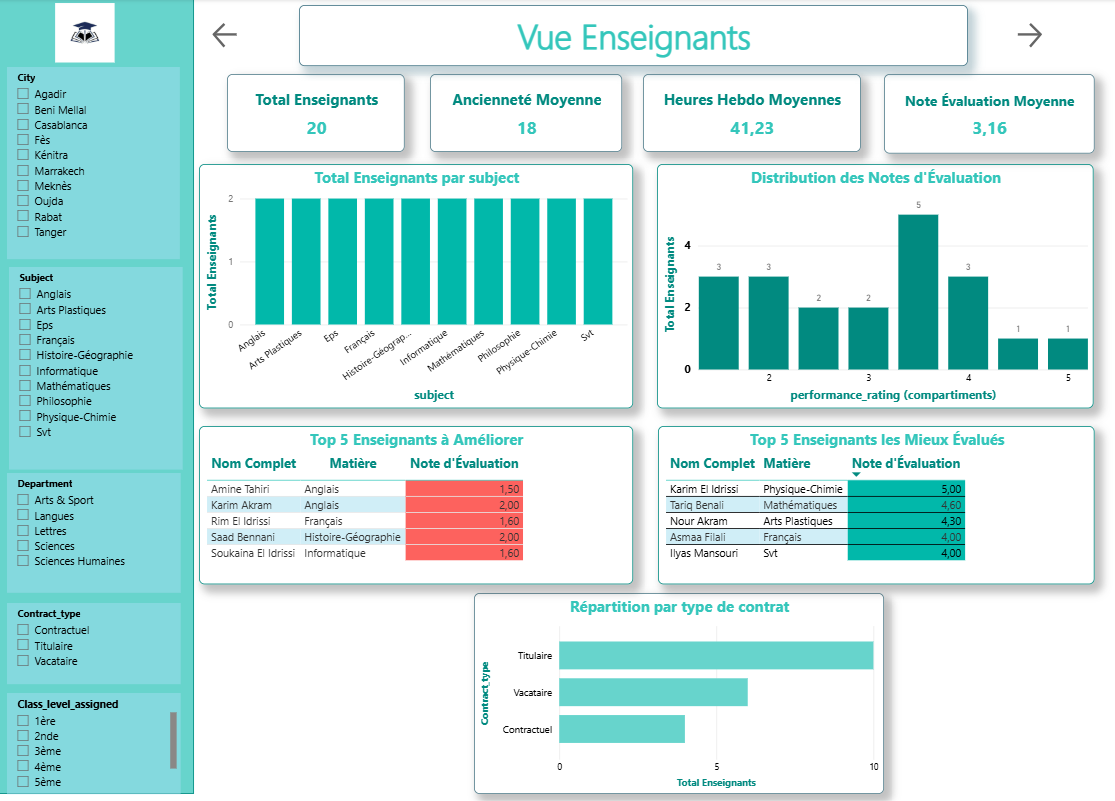

What the dashboard file says about the page in this screenshot:
{"tool":"powerbi","page":{"name":"Vue Enseignants","canvas":[1400,1000],"ordinal":1},"visuals":[{"type":"shape","box":[10.5,0,243.8,988.7],"z":0},{"type":"textbox","box":[384.4,7.5,831.6,76.3],"z":1000},{"type":"cardVisual","fields":{"Data":["teachers.Total Enseignants"]},"box":[294.7,92.7,221.4,97.2],"z":2000},{"type":"cardVisual","fields":{"Data":["teachers.Ancienneté Moyenne"]},"box":[547.4,92.7,239.3,97.2],"z":3000},{"type":"cardVisual","fields":{"Data":["courses.Heures Hebdo Moyennes"]},"box":[812.2,92.7,270.7,97.2],"z":4000},{"type":"cardVisual","fields":{"Data":["teachers.Note Évaluation Moyenne"]},"box":[1111.3,92.7,261.8,98.7],"z":5000},{"type":"slicer","fields":{"Values":["teachers.city"]},"box":[20.9,85,215.3,238.6],"z":6000},{"type":"slicer","fields":{"Values":["teachers.contract_type"]},"box":[20.7,751.8,216.1,100.9],"z":7000},{"type":"slicer","fields":{"Values":["teachers.department"]},"box":[20.7,590,216.1,148.8],"z":8000},{"type":"slicer","fields":{"Values":["teachers.subject"]},"box":[23.3,333.8,216.1,252.3],"z":9000},{"type":"image","box":[0,0,236.4,83.6],"z":10000},{"type":"barChart","title":"Répartition par type de contrat","fields":{"Category":["teachers.contract_type"],"Y":["teachers.Total Enseignants"]},"box":[601.7,738.8,509.8,249.7],"z":11000},{"type":"actionButton","box":[1272.9,25.4,100.2,40.4],"z":12000},{"type":"actionButton","box":[272.2,25.4,100.2,40.4],"z":13000},{"type":"clusteredColumnChart","fields":{"Category":["teachers.subject"],"Y":["teachers.Total Enseignants"]},"box":[260.3,204.9,540,303.6],"z":14000},{"type":"columnChart","title":"Distribution des Notes d''Évaluation","fields":{"Category":["teachers.performance_rating (compartiments)"],"Y":["teachers.Total Enseignants"]},"box":[830.1,204.9,542.9,303.6],"z":15000},{"type":"tableEx","title":"Top 5 Enseignants les Mieux Évalués","fields":{"Values":["teachers.full_name","teachers.subject","Avg(teachers.performance_rating)"]},"box":[830.7,530.5,543.4,196.7],"z":16000},{"type":"tableEx","title":"Top 5 Enseignants à Améliorer","fields":{"Values":["teachers.full_name","teachers.subject","Avg(teachers.performance_rating)"]},"box":[260.1,530.5,539.6,196.7],"z":17000},{"type":"slicer","fields":{"Values":["teachers.class_level_assigned"]},"box":[20.7,863,216.1,125.5],"z":18000}]}

Visuals, with their boxes in screenshot pixels (x1, y1, x2, y2), scaled from the page's 1400x1000 canvas onto the 1115x801 screenshot:
shape: 8, 0, 203, 792
textbox: 306, 6, 968, 67
cardVisual - teachers.Total Enseignants: 235, 74, 411, 152
cardVisual - teachers.Ancienneté Moyenne: 436, 74, 627, 152
cardVisual - courses.Heures Hebdo Moyennes: 647, 74, 862, 152
cardVisual - teachers.Note Évaluation Moyenne: 885, 74, 1094, 153
slicer - teachers.city: 17, 68, 188, 259
slicer - teachers.contract_type: 16, 602, 189, 683
slicer - teachers.department: 16, 473, 189, 592
slicer - teachers.subject: 19, 267, 191, 469
image: 0, 0, 188, 67
"Répartition par type de contrat" barChart: 479, 592, 885, 792
actionButton: 1014, 20, 1094, 53
actionButton: 217, 20, 297, 53
clusteredColumnChart - teachers.subject x teachers.Total Enseignants: 207, 164, 637, 407
"Distribution des Notes d''Évaluation" columnChart: 661, 164, 1093, 407
"Top 5 Enseignants les Mieux Évalués" tableEx: 662, 425, 1094, 582
"Top 5 Enseignants à Améliorer" tableEx: 207, 425, 637, 582
slicer - teachers.class_level_assigned: 16, 691, 189, 792
